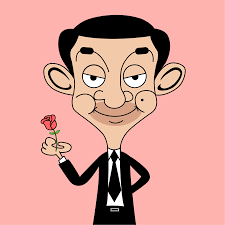mrbean: (22, 11, 188, 224)
